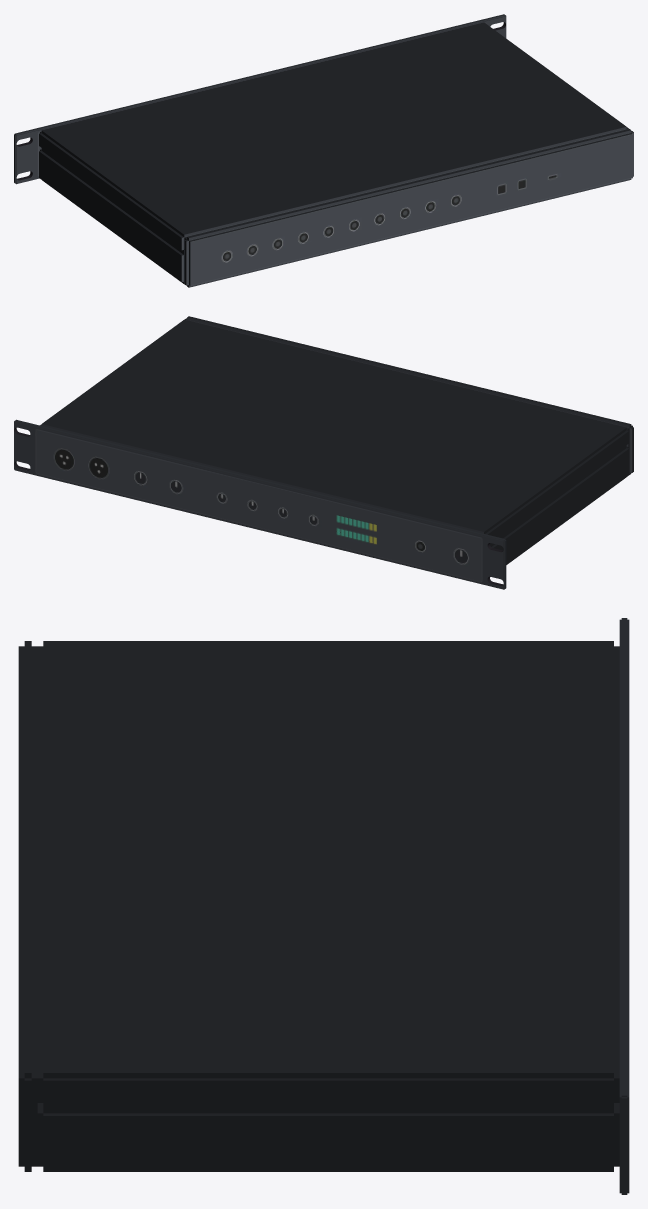
Rendered from focusrite-scarlett-18i20-3rd-gen.glb.
3 renders of one model, top to bottom at view 1: azimuth 30°, elevation 25°; view 2: azimuth 150°, elevation 25°; view 3: azimuth 270°, elevation 25°, orthographic. The views are drawn at different scales.
Visible parts, largest first — view 1: focusrite-scarlett-18i20-3rd-gen-body; view 2: focusrite-scarlett-18i20-3rd-gen-body; view 3: focusrite-scarlett-18i20-3rd-gen-body.
Part boxes in pixels (x1,y1,x2,y2): focusrite-scarlett-18i20-3rd-gen-body: [14, 14, 633, 287]; focusrite-scarlett-18i20-3rd-gen-body: [14, 316, 633, 589]; focusrite-scarlett-18i20-3rd-gen-body: [18, 618, 629, 1194].
Bounding box in the file's own units: 0.4826 × 0.0466 × 0.2598.
1 material, 1 textured.
